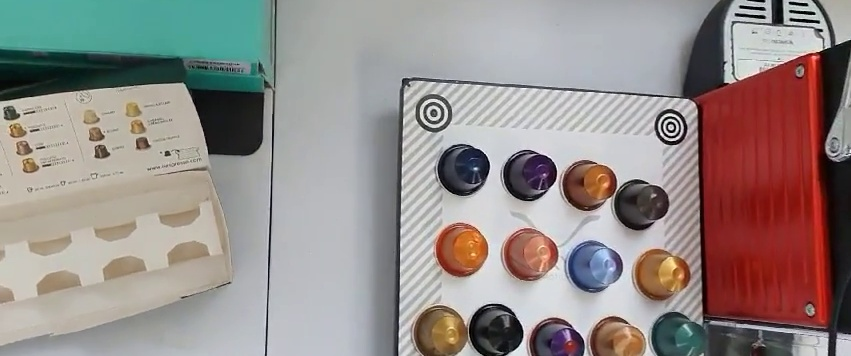capsule_1: (435, 142, 490, 196)
capsule_10: (469, 306, 523, 356)
capsule_11: (524, 313, 587, 356)
capsule_12: (588, 316, 647, 356)
capsule_13: (648, 311, 707, 356)
capsule_2: (499, 147, 557, 202)
capsule_3: (559, 155, 619, 215)
capsule_4: (613, 178, 671, 231)
capsule_5: (431, 219, 488, 277)
capsule_6: (501, 225, 560, 284)
capsule_7: (563, 238, 625, 296)
capsule_8: (631, 245, 693, 304)
capsule_9: (411, 304, 467, 356)
